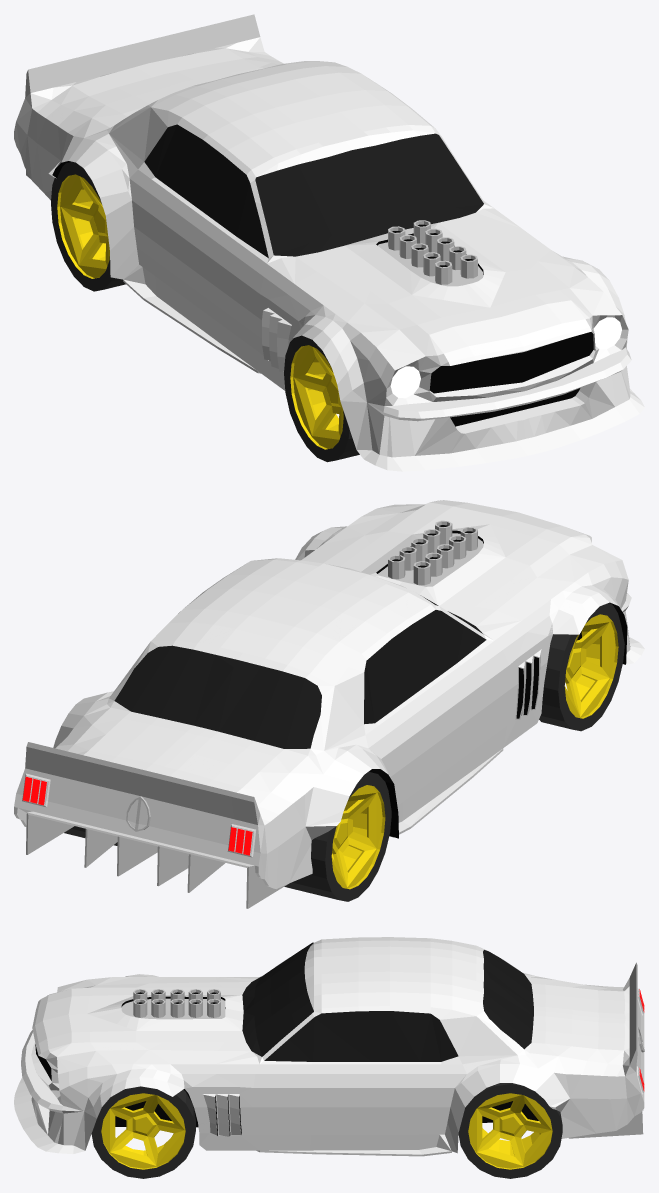
The model's file is arrow.glb.
3 renders of one model, top to bottom at view 1: azimuth 30°, elevation 25°; view 2: azimuth 150°, elevation 25°; view 3: azimuth 270°, elevation 25°, orthographic. The views are drawn at different scales.
Parts seen in each view (by area): view 1: Cube, Circle.002, Circle.003; view 2: Cube, Circle.002, Circle.003; view 3: Cube, Circle.001, Circle.
Part boxes in pixels (left/top/right/bottom): Cube: left=14, top=14, right=644, bottom=471; Circle.002: left=284, top=336, right=359, bottom=462; Circle.003: left=51, top=162, right=125, bottom=291; Cube: left=14, top=500, right=644, bottom=908; Circle.002: left=539, top=603, right=624, bottom=731; Circle.003: left=284, top=771, right=391, bottom=901; Cube: left=14, top=937, right=644, bottom=1156; Circle.001: left=458, top=1083, right=562, bottom=1178; Circle: left=91, top=1086, right=195, bottom=1178.
Bounding box in the file's own units: 1.91 × 1.31 × 4.59.
